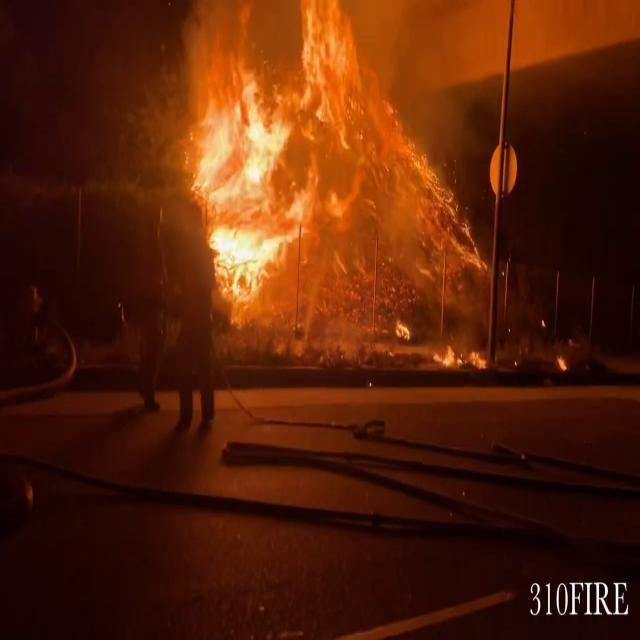Fire: (172, 1, 346, 318)
